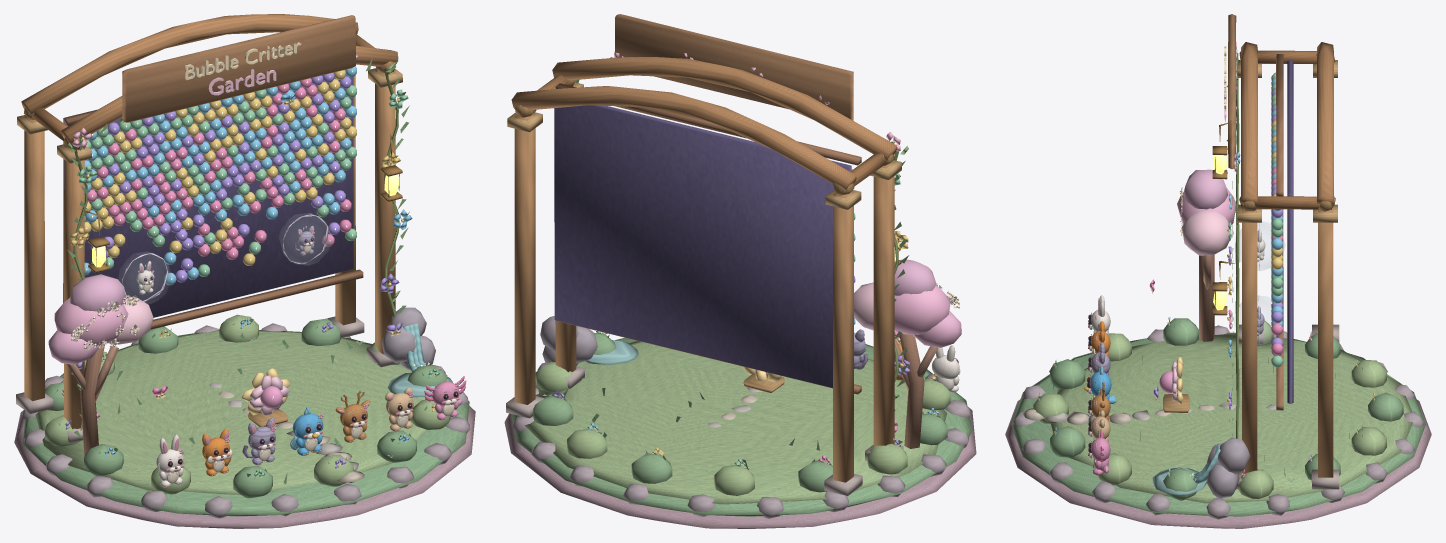
3 views of the same model, side by side, from view 1: azimuth 30°, elevation 25°; view 2: azimuth 150°, elevation 25°; view 3: azimuth 270°, elevation 25° (orthographic). The views are drawn at different scales.
Parts seen in each view (by area): view 1: Attraction, Board bubbles, BubbleShells, Pip, Clover, Petal, Mochi, Clementine, Fern, Maple; view 2: Attraction, Mochi; view 3: Attraction, Board bubbles, BubbleShells, Petal, Pip.
Part boxes in pixels (x1,y1,x2,y2): Attraction: (14,14,475,528); Board bubbles: (84,66,356,408); BubbleShells: (118,213,331,303); Pip: (290,407,323,455); Clover: (242,417,276,465); Petal: (424,376,466,420); Mochi: (156,434,184,487); Clementine: (202,429,232,476); Fern: (335,391,370,442); Maple: (385,388,413,431); Attraction: (504,14,976,528); Mochi: (932,345,960,392); Attraction: (1005,14,1431,528); Board bubbles: (1159,72,1283,392); BubbleShells: (1234,221,1284,345); Petal: (1088,429,1110,475); Pip: (1084,366,1116,404).
Size of the model in its own units: 11.52 by 10.78 by 10.96.
4 materials, 2 textured.
